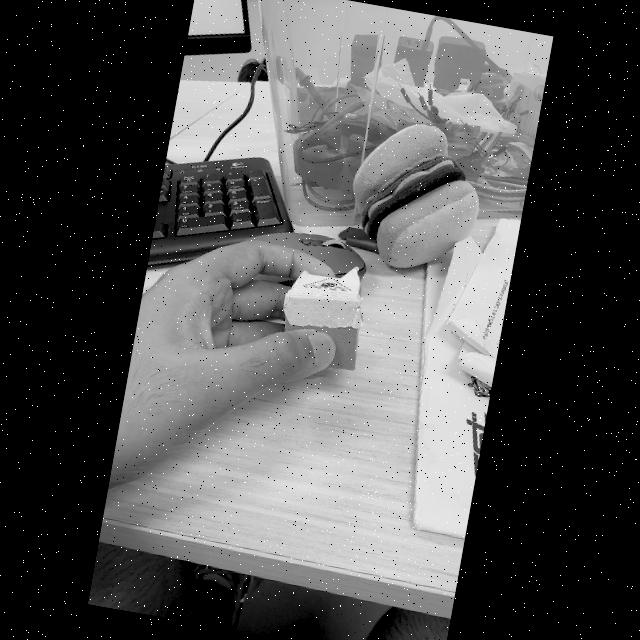Tsunami: (304, 278, 350, 292)
